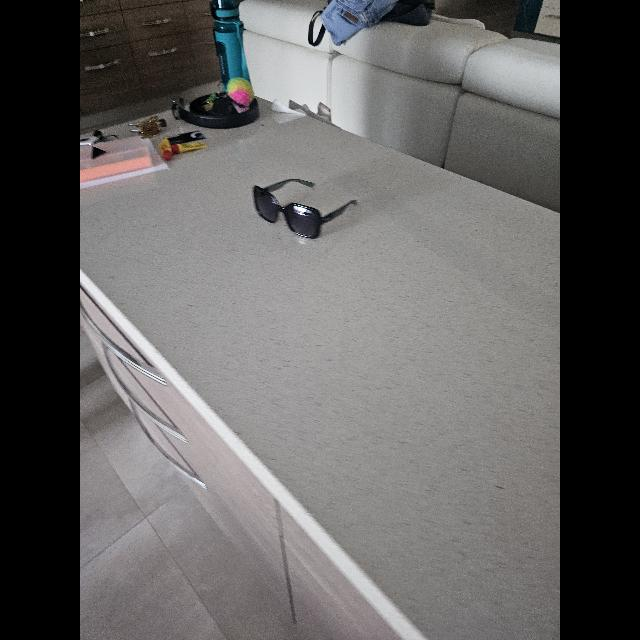Sunglasses: (253, 179, 357, 239)
